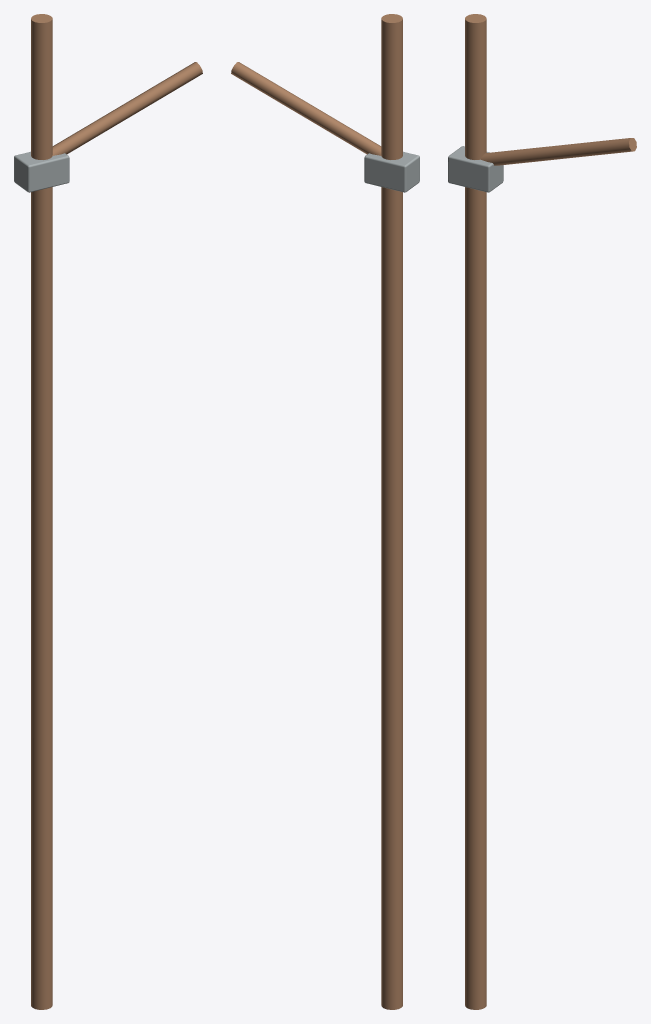
Rendered from off-grid-power-and-controls-grounding-rod-85e4a401__3003.glb.
The picture shows the model from 3 angles, left to right: view 1: azimuth 30°, elevation 25°; view 2: azimuth 150°, elevation 25°; view 3: azimuth 330°, elevation 25°; orthographic projection.
Parts seen in each view (by area): view 1: grounding-rod; view 2: grounding-rod; view 3: grounding-rod.
Part boxes in pixels (x1,y1,x2,y2): grounding-rod: [14, 14, 202, 1009]; grounding-rod: [231, 14, 419, 1009]; grounding-rod: [448, 14, 636, 1009].
Size of the model in its own units: 0.1719 by 0.9 by 0.025.
